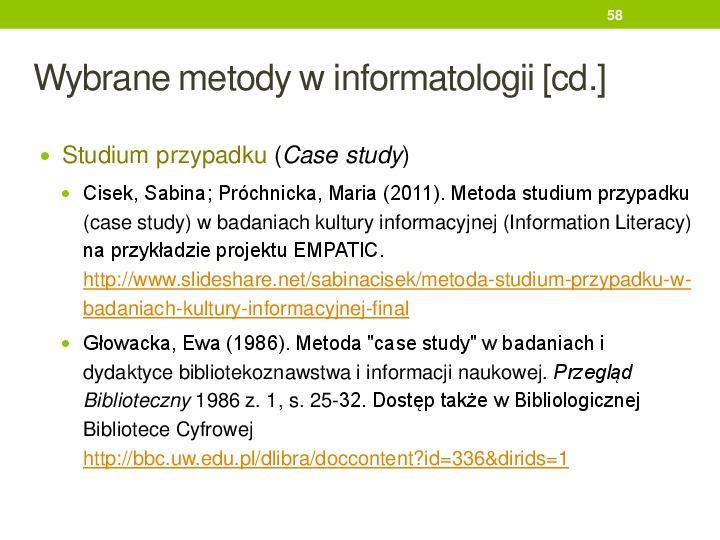paragraph: (30, 182, 706, 489)
subtitle: (60, 137, 424, 172)
title: (29, 49, 617, 119)
